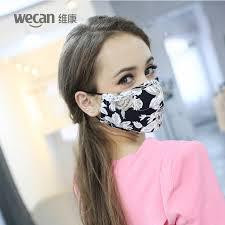OK: (96, 56, 166, 132)
